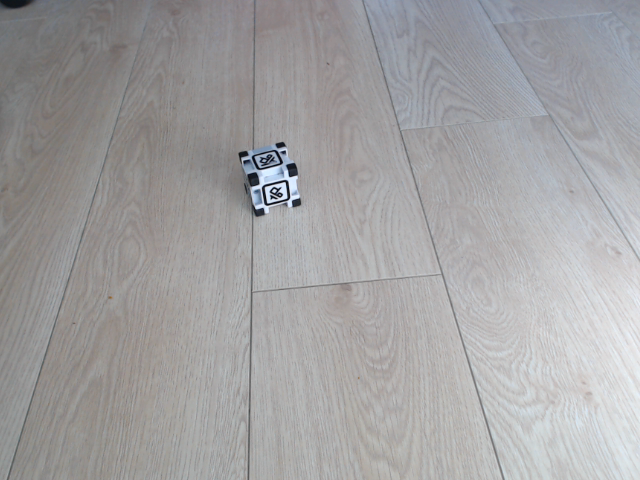block: (234, 140, 305, 221)
